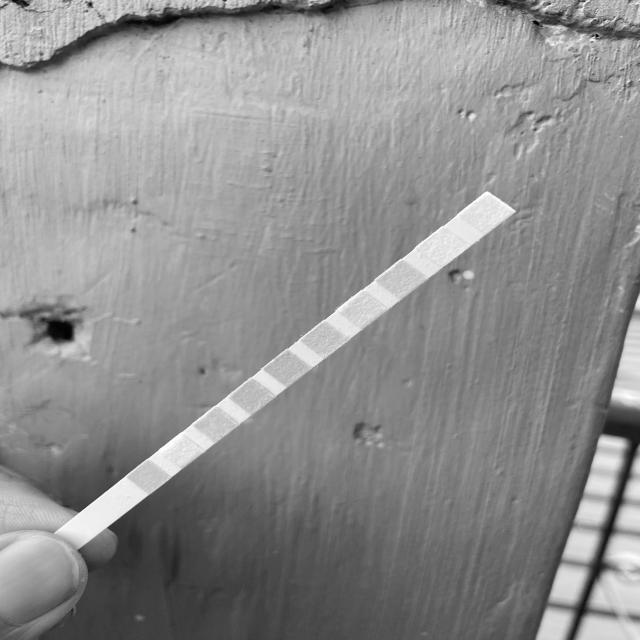Bilirubin: (169, 442, 192, 459)
Blood: (274, 359, 299, 378)
Glucose: (137, 469, 163, 485)
Ketone: (203, 416, 227, 434)
Leukocytes: (472, 203, 500, 223)
Nitrite: (428, 237, 458, 257)
Protein: (348, 300, 375, 320)
SpGravity: (239, 386, 262, 406)
Urobilinogen: (387, 270, 415, 289)
background: (0, 0, 640, 640)
pH: (311, 330, 338, 350)
strip: (54, 192, 515, 550)
